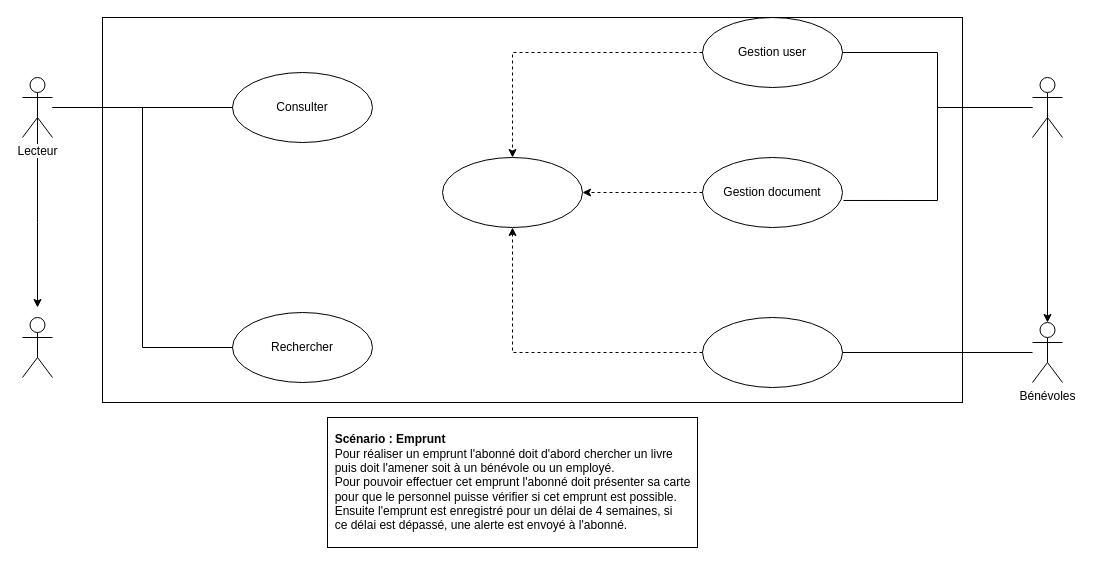
The diagram is 1093 pixels wide and 565 high, and some of its shapes have lost their labels. Here are the shapes that lost their labels. From the top down, the centre of each, then its label:
At (x=1047, y=107): "Personnel".
At (x=512, y=192): "Identification".
At (x=37, y=347): "Abonné".
At (x=772, y=352): "Enregistrement emprunt".
